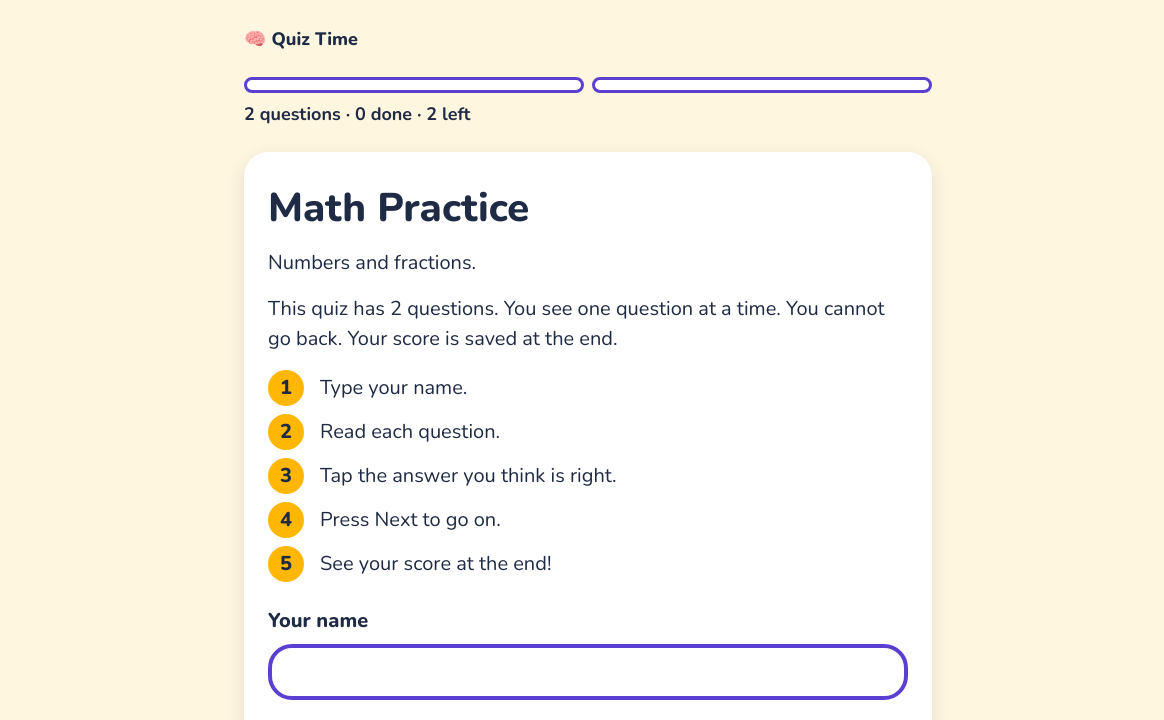
Test case: QuestionPage › lets the player change the choice before clicking Next
Type "Sam" into the field labelled "Your name" at (588, 672), box x1=268 y1=644 x2=908 y2=700
(page scrolled)
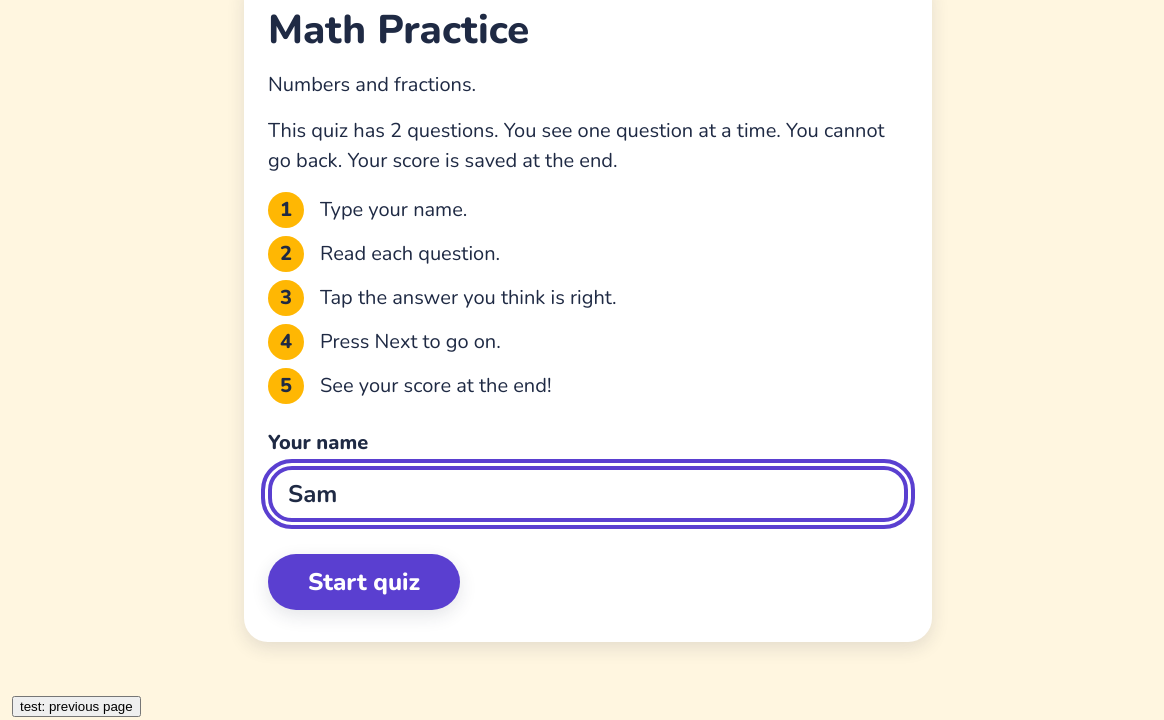
Click the button "Start quiz" at (364, 582), box x1=268 y1=554 x2=460 y2=610
(page scrolled)
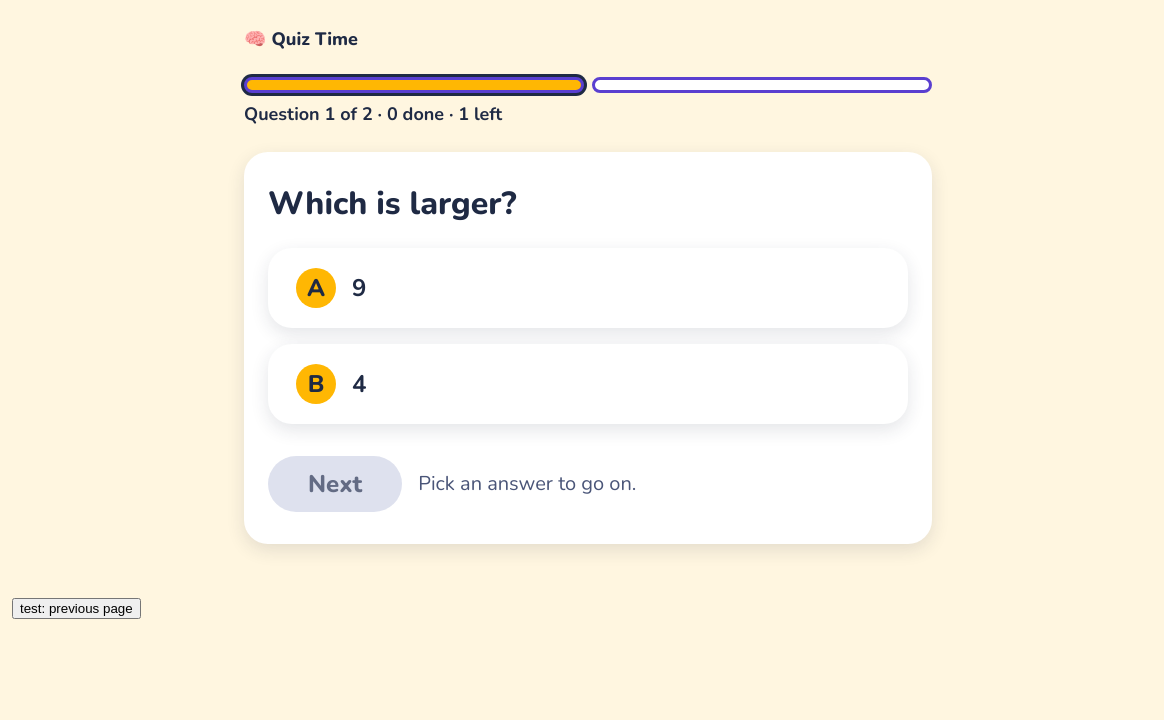
Expected: the text "Question 1 of 2 · 0 done · 1 left" is shown, x1=244 y1=102 x2=502 y2=126
Click the radio button labelled "A 9" at (316, 288), box x1=268 y1=248 x2=908 y2=328
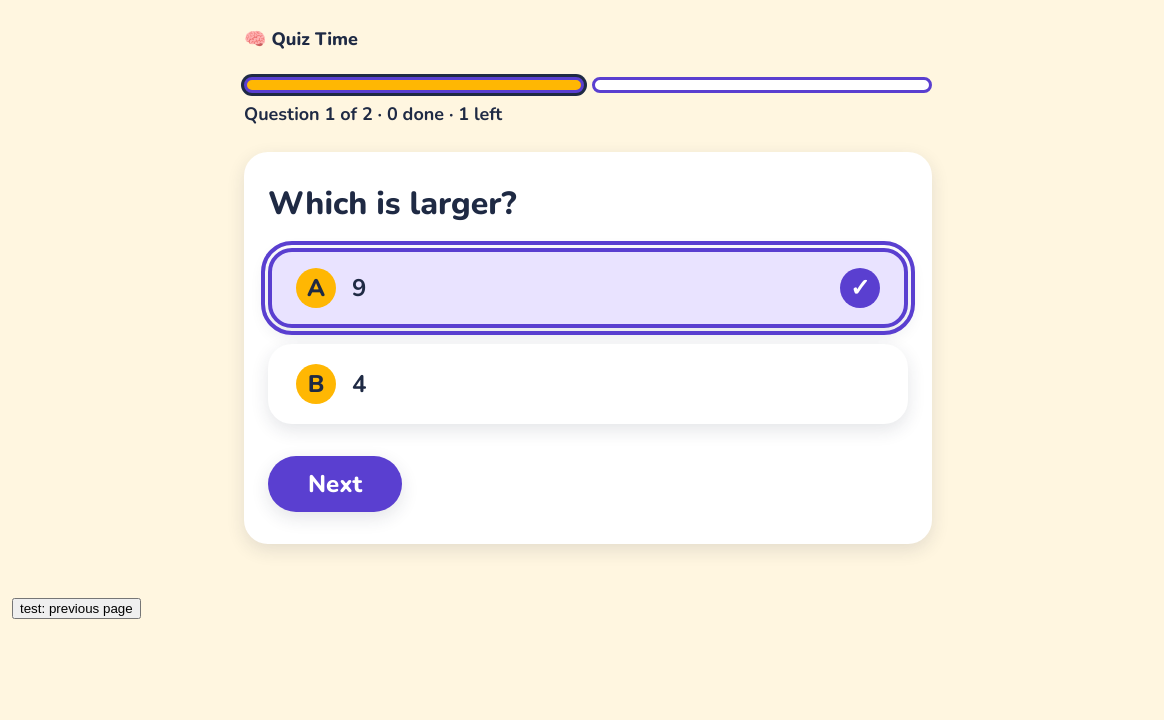
Click the radio button labelled "B 4" at (316, 384), box x1=268 y1=344 x2=908 y2=424
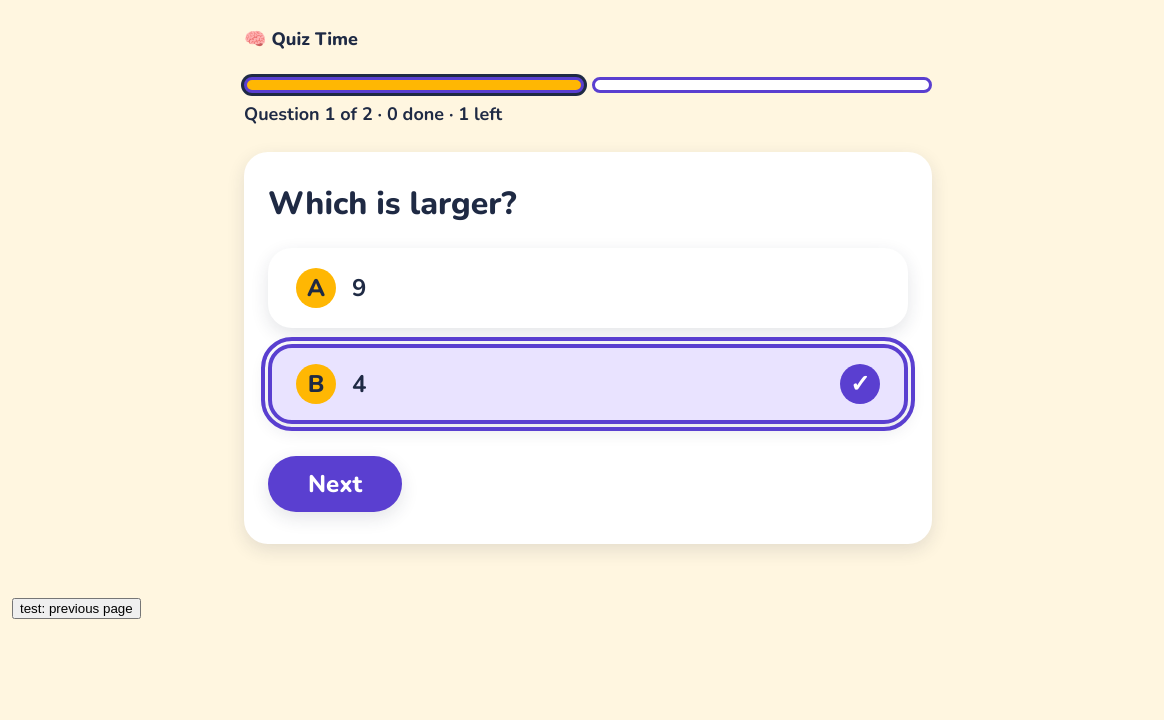
Expected: the radio button labelled "A 9" is not checked, x1=268 y1=248 x2=908 y2=328
Expected: the radio button labelled "B 4 ✓" is checked, x1=268 y1=344 x2=908 y2=424
